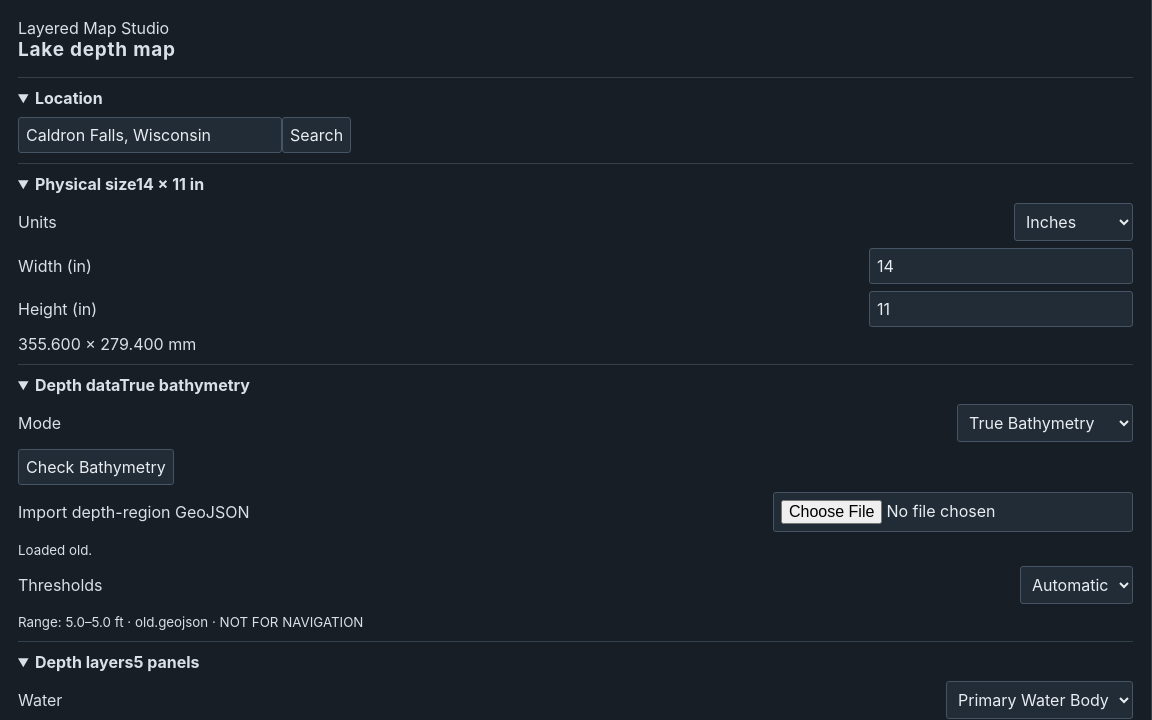
Test: Depth data: Check Bathymetry › when the water body cannot be captured, says so and drops the previous lake's dataset
Expected: the text "Range: 5.0–5.0 ft · old.geojson · NOT FOR NAVIGATION" is shown, left=18, top=614, right=363, bottom=630
Step 1. Click the button "Check Bathymetry" → (96, 467), box left=18, top=449, right=174, bottom=485
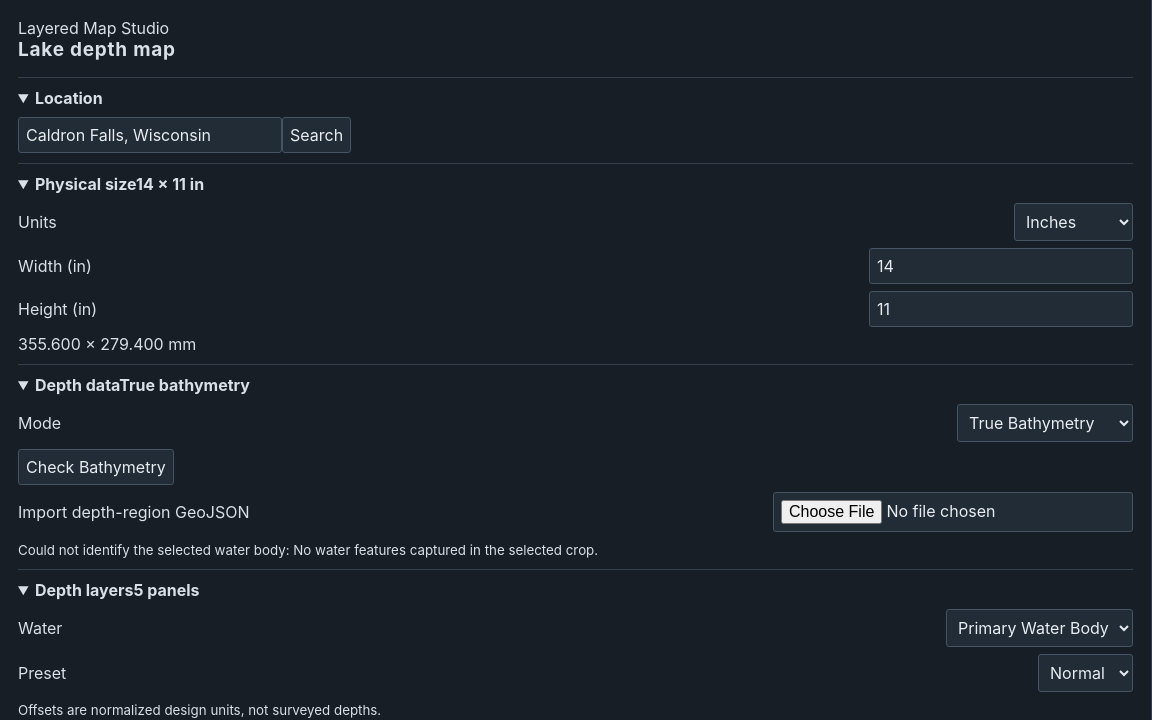
Now the text with class "notice" shows "Could not identify the selected water body: No water features captured in the selected crop.", box left=18, top=542, right=598, bottom=558
Now the text "Range:" is gone
